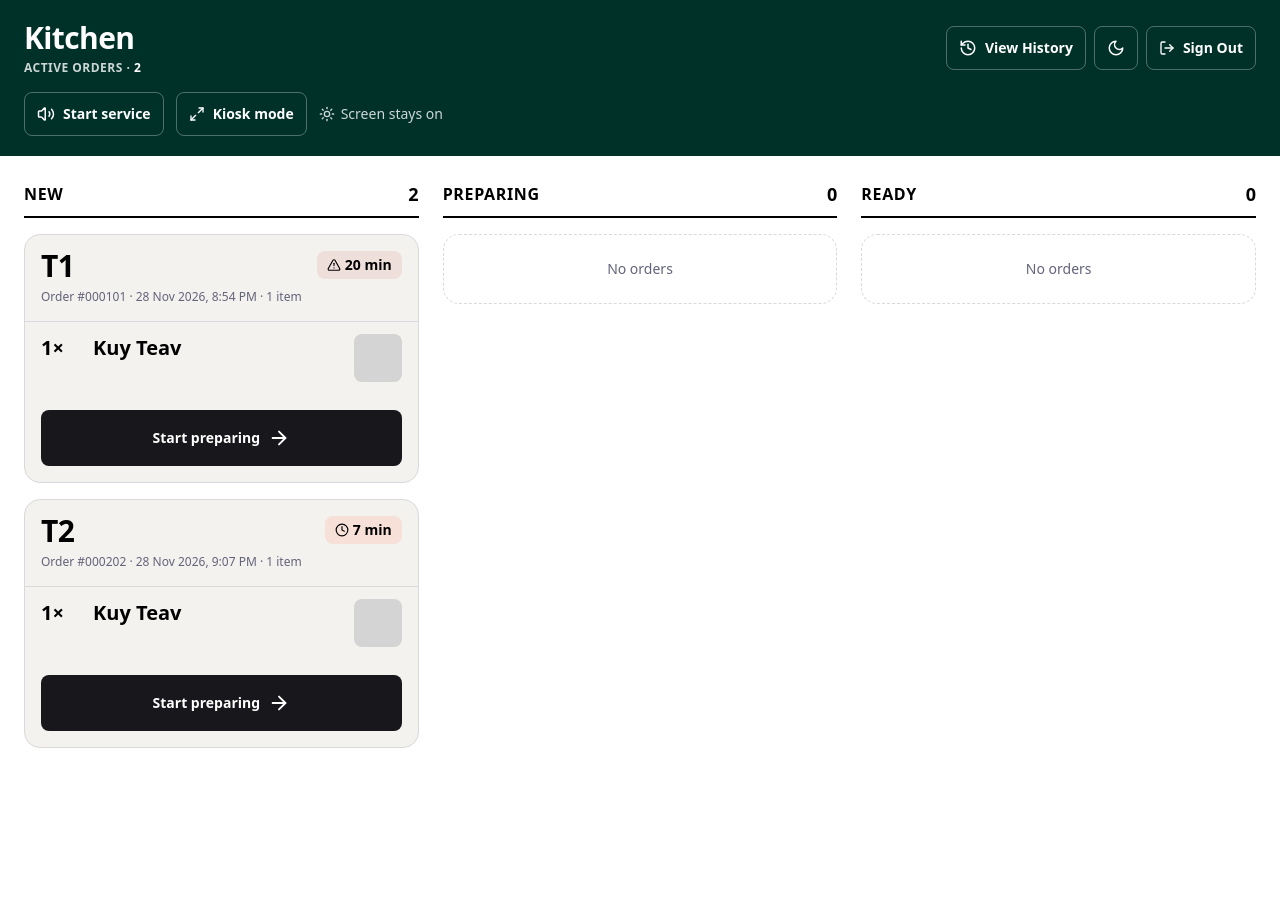
the kitchen board (VM-29) › kiosk mode: full screen, large table numbers, oldest order first
Later steps or results of the test are not shown.
Check: the heading named "Table T1" is shown, box [40,244,116,286]
Click the button "Kiosk mode" at (241, 114), box [176,92,307,136]
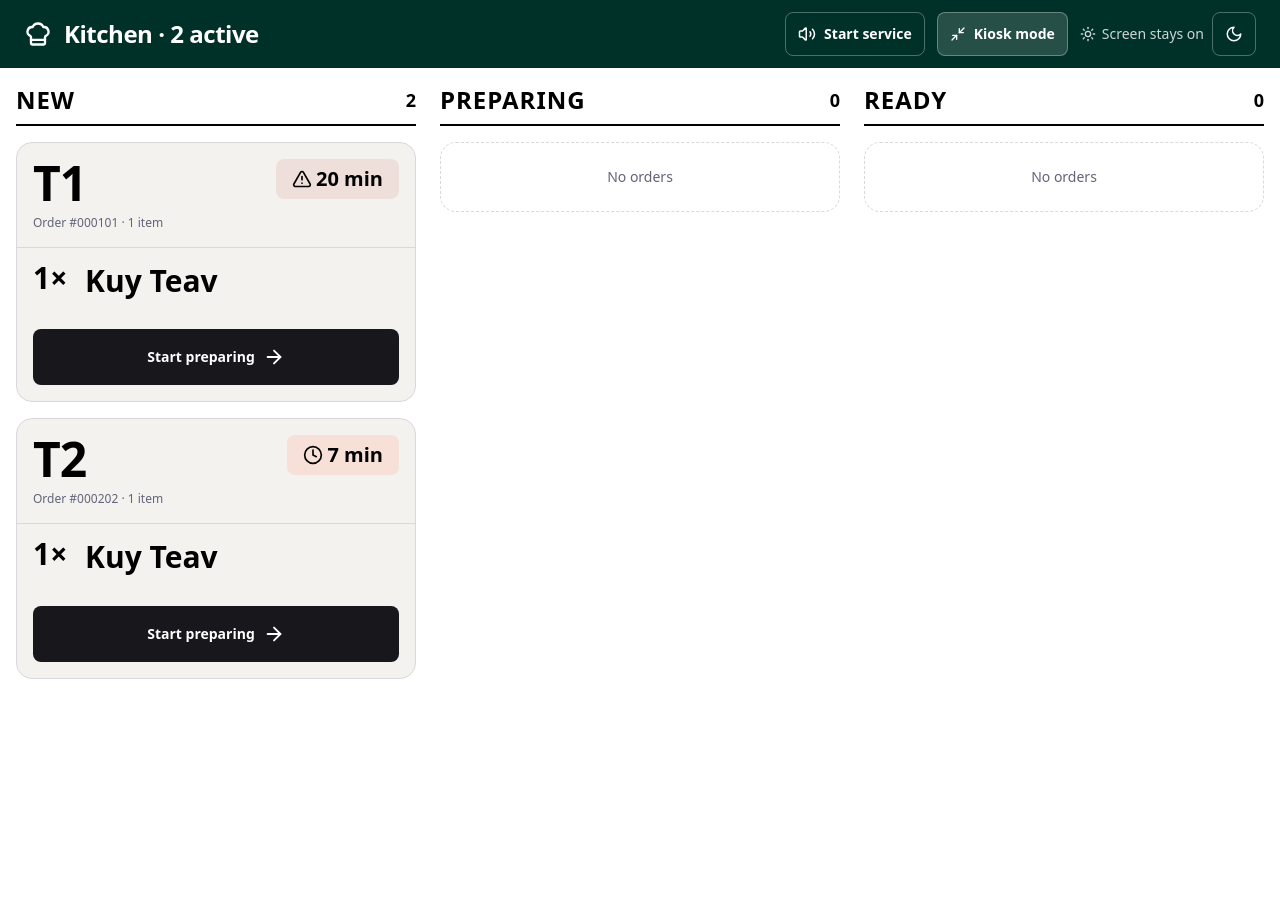
Check: the headings read "Table T1", "Table T2", in this order, box [33,159,163,207]; [33,435,163,483]
Check: the heading "T1" has class "text-5xl", box [33,159,163,207]
Check: the button "Kiosk mode" is pressed, box [937,12,1068,56]
